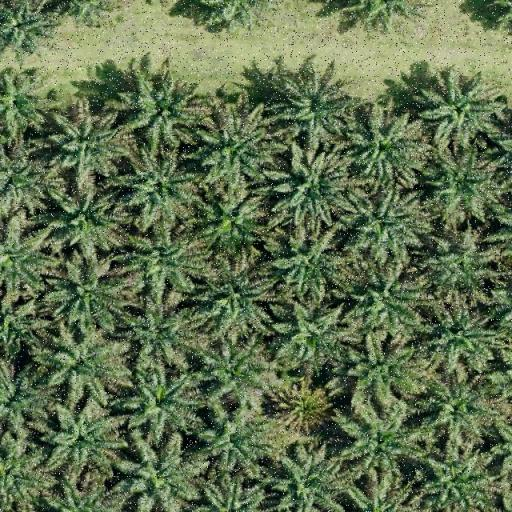Ganoderma: (280, 385, 330, 430)
